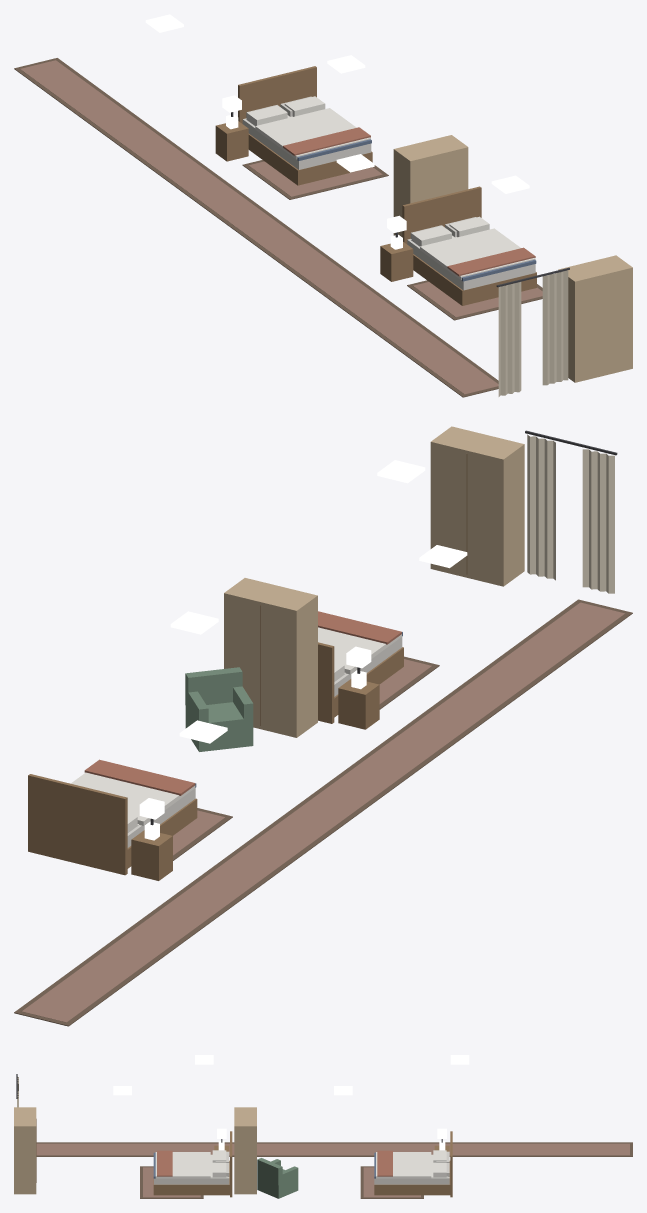
Rendered from fine-s3.glb.
3 views of the same model, one above another, from view 1: azimuth 30°, elevation 25°; view 2: azimuth 150°, elevation 25°; view 3: azimuth 270°, elevation 25° (orthographic). The views are drawn at different scales.
Parts seen in each view (by area): view 1: soft-s3, dresser.005, bed-frame.005, bed-frame.004, dresser.004, nightstand.005, nightstand.004; view 2: soft-s3, dresser.005, dresser.004, bed-frame.004, lounge-chair.002, bed-frame.005, nightstand.004, nightstand.005; view 3: soft-s3, dresser.004, dresser.005, bed-frame.005, bed-frame.004, lounge-chair.002.
Boxes of the visible parts, left/top/right/bottom form: soft-s3: left=14, top=58, right=569, bottom=397; dresser.005: left=558, top=255, right=632, bottom=382; bed-frame.005: left=402, top=186, right=536, bottom=305; bed-frame.004: left=238, top=66, right=372, bottom=185; dresser.004: left=393, top=135, right=468, bottom=236; nightstand.005: left=380, top=234, right=413, bottom=281; nightstand.004: left=215, top=114, right=248, bottom=161; soft-s3: left=14, top=430, right=632, bottom=1026; dresser.005: left=430, top=426, right=524, bottom=586; dresser.004: left=224, top=578, right=317, bottom=737; bed-frame.004: left=28, top=774, right=197, bottom=875; lounge-chair.002: left=185, top=667, right=253, bottom=751; bed-frame.005: left=318, top=632, right=403, bottom=723; nightstand.004: left=131, top=821, right=172, bottom=880; nightstand.005: left=338, top=670, right=379, bottom=729; soft-s3: left=16, top=1074, right=632, bottom=1198; dresser.004: left=234, top=1107, right=256, bottom=1194; dresser.005: left=14, top=1107, right=36, bottom=1194; bed-frame.005: left=153, top=1131, right=232, bottom=1197; bed-frame.004: left=374, top=1131, right=452, bottom=1197; lounge-chair.002: left=257, top=1158, right=298, bottom=1198.
Bounding box in the file's own units: 3.55 × 2.69 × 16.55.
